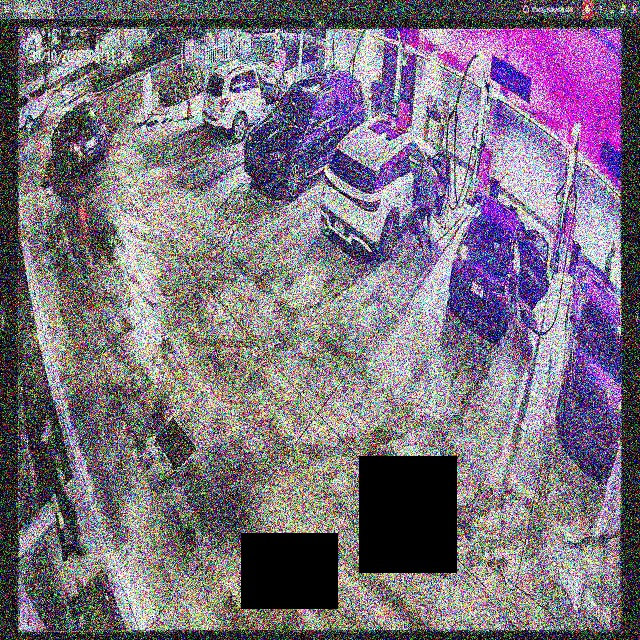Car: (321, 117, 447, 261), (244, 72, 368, 196), (447, 196, 548, 330)
